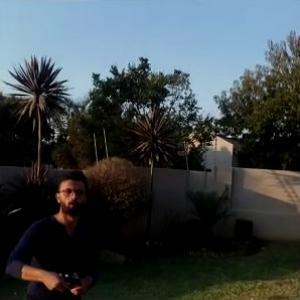follow: (1, 161, 104, 299)
